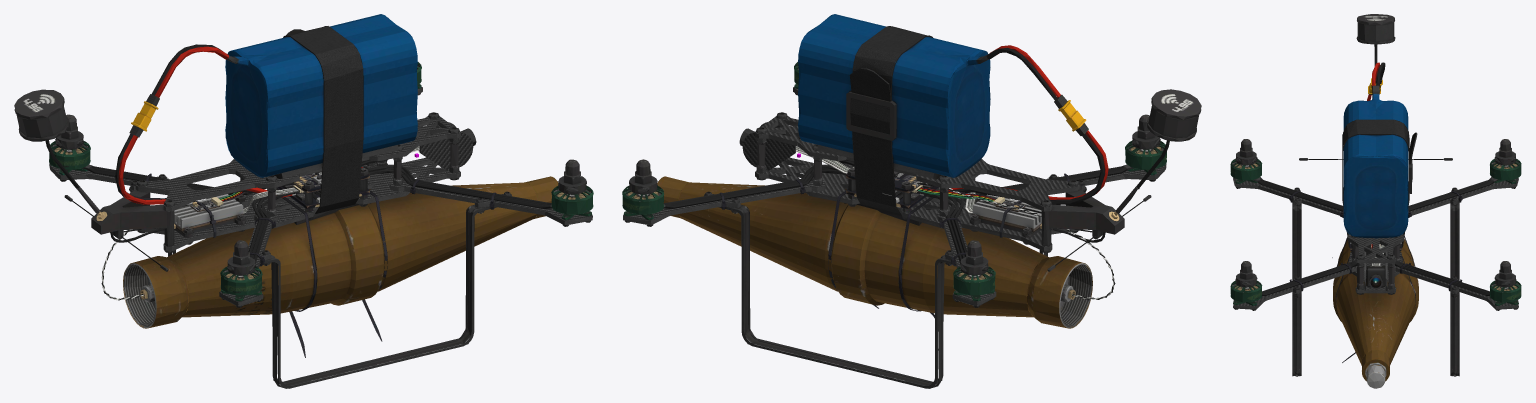
File: drone_source.glb
3 views of the same model, side by side, from view 1: azimuth 30°, elevation 25°; view 2: azimuth 150°, elevation 25°; view 3: azimuth 270°, elevation 25° (orthographic). The views are drawn at different scales.
Visible parts, largest first — view 1: vehicle#engine1_5; view 2: vehicle#engine1_5; view 3: vehicle#engine1_5.
Part boxes in pixels (<box>): vehicle#engine1_5: <box>14,14,593,388</box>; vehicle#engine1_5: <box>622,14,1201,388</box>; vehicle#engine1_5: <box>1230,14,1521,388</box>.
Bounding box in the file's own units: 0.4041 × 0.2204 × 0.2403.
3 materials, 2 textured.
